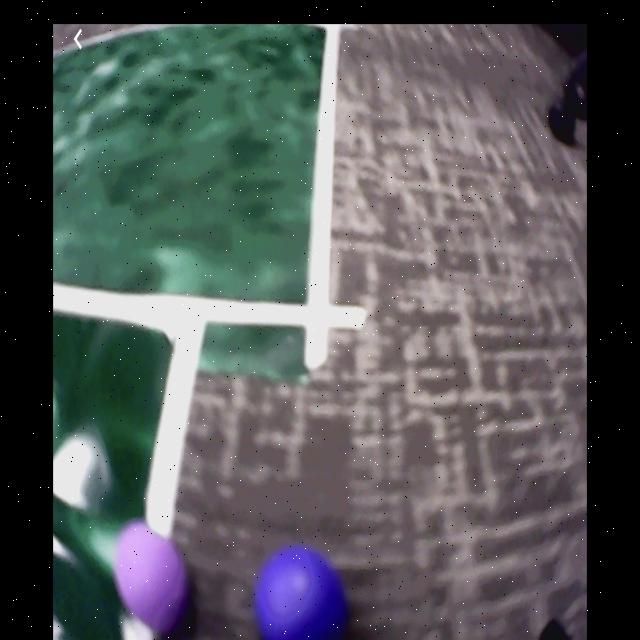ball: (256, 549, 346, 640), (120, 524, 187, 636)
